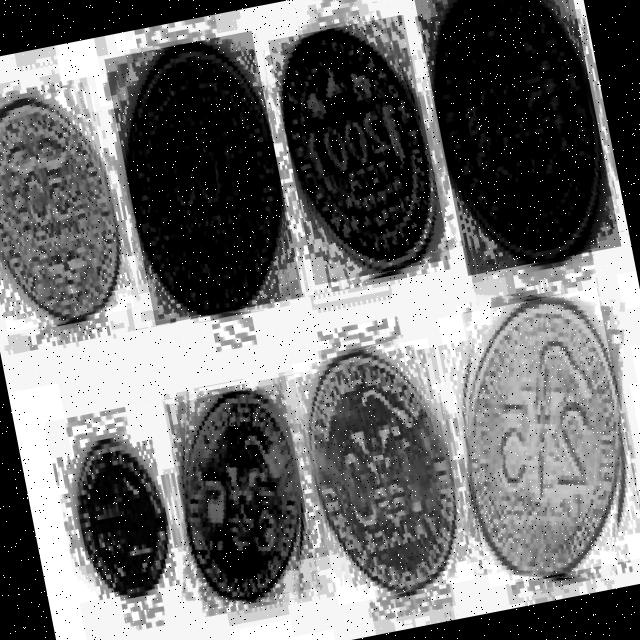derem: (184, 392, 300, 601)
fukk: (0, 98, 119, 321)
juroom derem: (467, 297, 621, 576)
niaari derem: (310, 352, 457, 592)
niaari fukk: (127, 43, 279, 315)
nient fukk: (282, 30, 435, 271)
teemeer: (434, 0, 600, 261)
